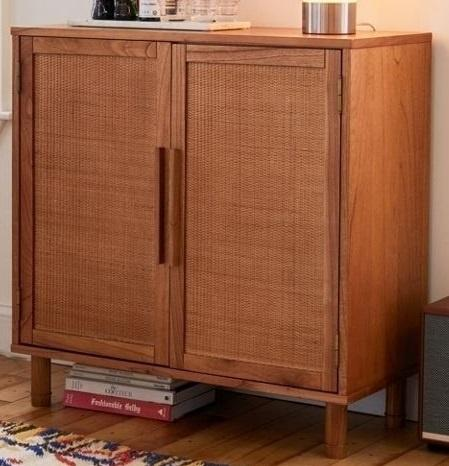cabinet_door: (176, 52, 350, 382), (21, 43, 175, 350)
handle: (150, 145, 174, 270)
